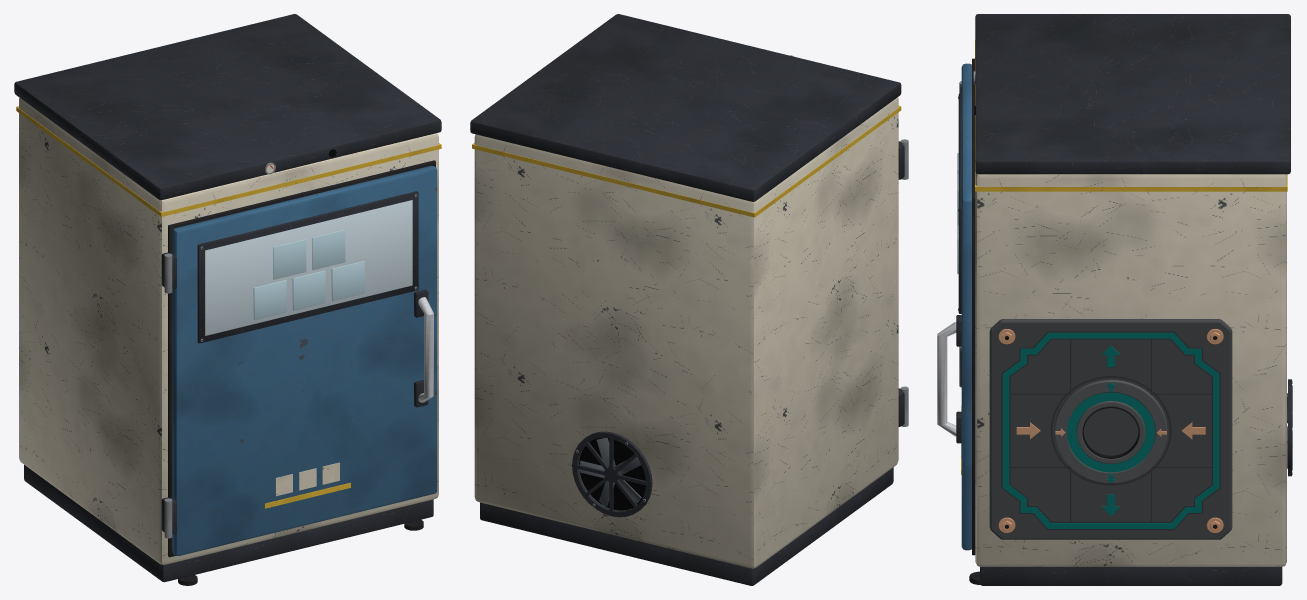
The model's file is freezer.glb.
The picture shows the model from 3 angles, left to right: view 1: azimuth 30°, elevation 25°; view 2: azimuth 150°, elevation 25°; view 3: azimuth 270°, elevation 25°; orthographic projection. The views are drawn at different scales.
Parts seen in each view (by area): view 1: Body; view 2: Body, Fan; view 3: Body, IOPort_both.
Boxes of the visible parts, bbox=[...] form: Body: bbox=[14, 14, 441, 585]; Body: bbox=[470, 14, 908, 585]; Fan: bbox=[578, 438, 641, 507]; Body: bbox=[937, 14, 1292, 585]; IOPort_both: bbox=[989, 319, 1232, 539].
Bounding box in the file's own units: 0.7426 × 0.985 × 0.7329.
Materials: 22 (10 with a texture image).
